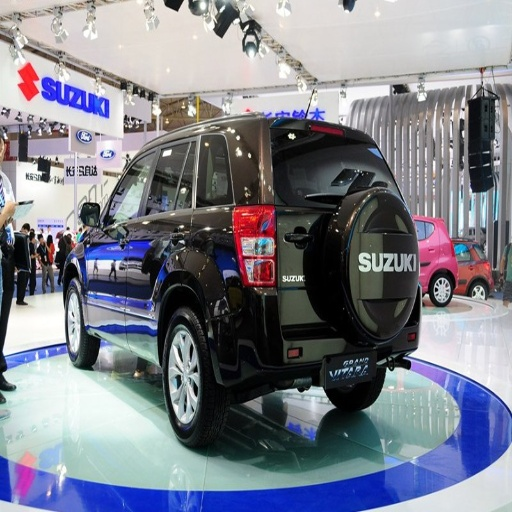back_glass: (299, 142, 385, 192)
back_left_door: (127, 155, 183, 335)
tailgate: (286, 186, 412, 332), (279, 139, 330, 179)
trunk: (162, 216, 242, 328), (352, 220, 456, 306), (278, 214, 321, 339)
